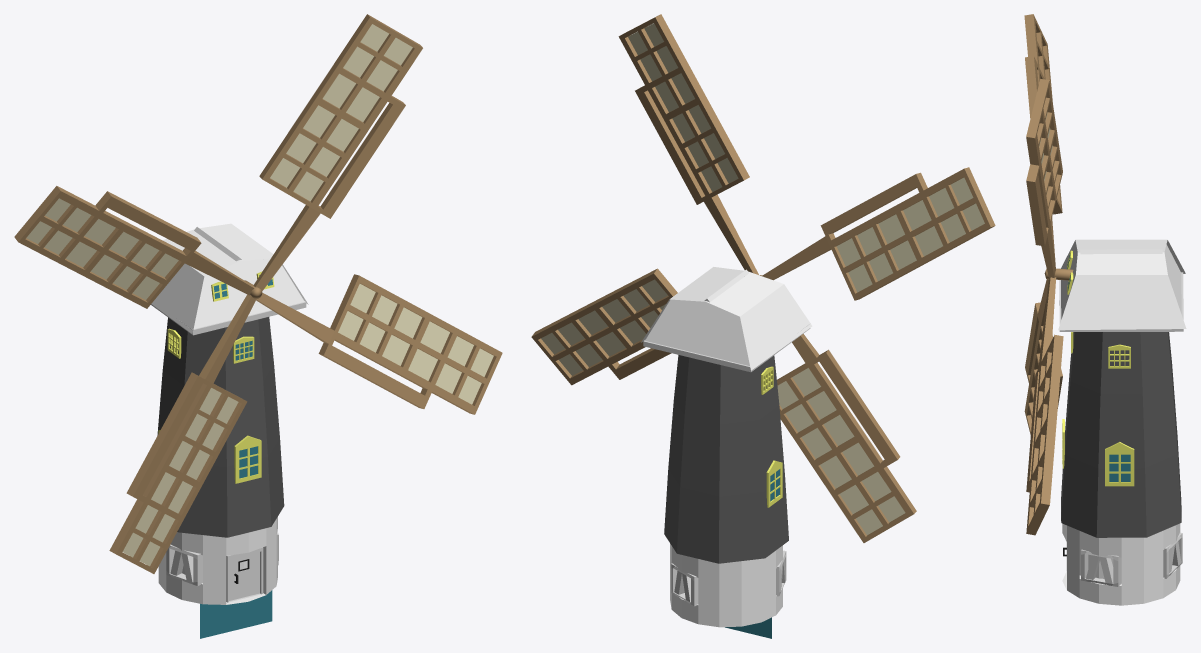
Rendered from windmill1.glb.
3 views of the same model, side by side, from view 1: azimuth 30°, elevation 25°; view 2: azimuth 150°, elevation 25°; view 3: azimuth 270°, elevation 25° (orthographic). The views are drawn at different scales.
Parts seen in each view (by area): view 1: body, wing big.002, wing big.001, wing big.000, wing big.003, wind.002, wind.000, base, wind.003, top, wind.001, top sides (+4 smaller); view 2: body, wing big.002, wing big.001, wing big.003, base, top, wind.001, wing big.000, wind.003, top sides, wind.002, wind.000 (+2 smaller); view 3: body, top, base, wing big.000, wing big.002, wing big.003, wing big.001, window frame, top sides, window.001, window frame.001, Plane (+3 smaller).
Boxes of the visible parts, box(x1,y1,x2,y2) form: body: box(157, 317, 284, 537); wing big.002: box(253, 14, 422, 291); wing big.001: box(109, 294, 255, 573); wing big.000: box(256, 274, 502, 414); wing big.003: box(14, 186, 254, 308); wind.002: box(270, 24, 412, 201); wind.000: box(338, 284, 493, 404); base: box(158, 517, 277, 604); wind.003: box(26, 198, 178, 299); top: box(151, 223, 308, 334); wind.001: box(122, 388, 238, 566); top sides: box(193, 258, 304, 328); body: box(664, 355, 788, 563); wing big.002: box(618, 14, 758, 274); wing big.001: box(777, 334, 916, 542); wing big.003: box(762, 167, 995, 300); base: box(670, 543, 782, 627); top: box(641, 267, 812, 370); wind.001: box(777, 368, 905, 535); wing big.000: box(531, 268, 677, 385); wind.003: box(836, 177, 984, 292); top sides: box(645, 299, 749, 365); wind.002: box(628, 23, 738, 191); wind.000: box(541, 279, 667, 375); body: box(1061, 332, 1181, 537); top: box(1058, 239, 1186, 330); base: box(1062, 523, 1180, 605); wing big.000: box(1026, 277, 1063, 535); wing big.002: box(1026, 79, 1062, 277); wing big.003: box(1024, 14, 1062, 264); wing big.001: box(1024, 279, 1062, 435); window frame: box(1081, 549, 1121, 586); top sides: box(1061, 244, 1181, 319); window.001: box(1105, 442, 1134, 486); window frame.001: box(1163, 532, 1182, 578); Plane: box(1059, 272, 1183, 331).
Size of the model in its own units: 4.12 by 4.91 by 1.21.
